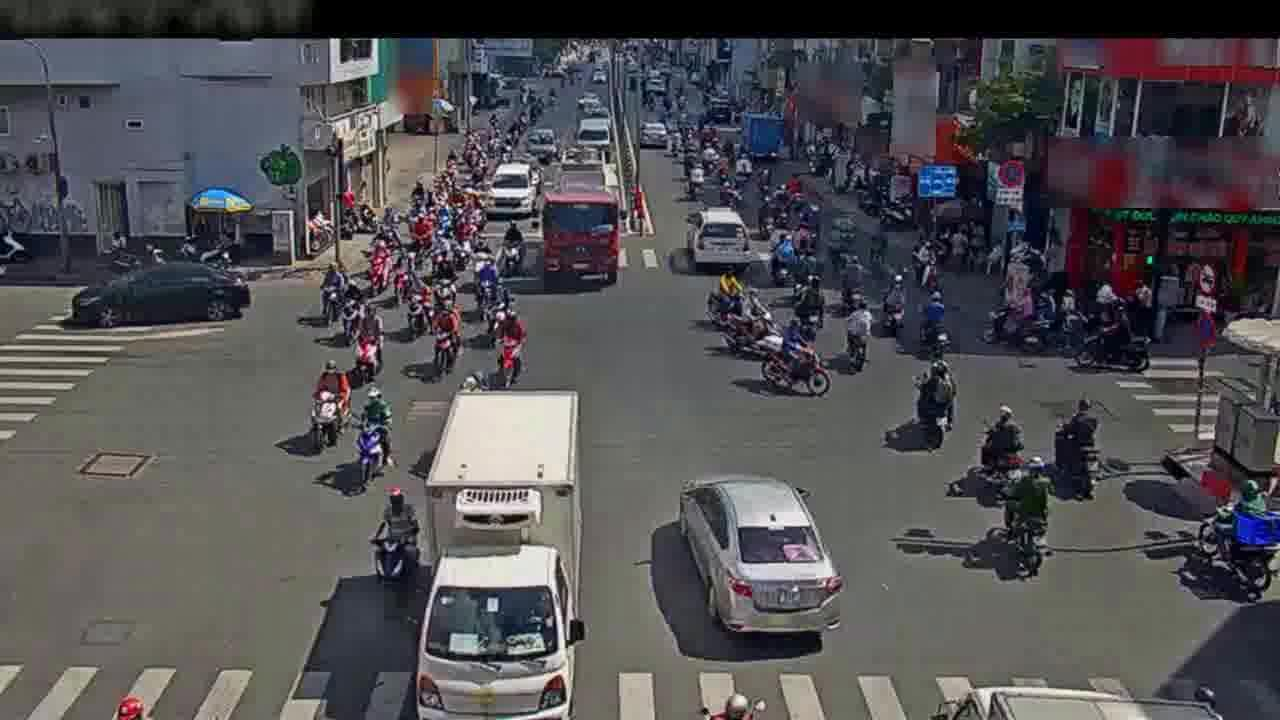8: (407, 394, 601, 715), (541, 158, 624, 291)
container: (683, 471, 830, 641), (68, 266, 249, 325), (687, 202, 747, 278), (486, 160, 539, 222), (634, 114, 671, 157)
motorbike: (1200, 484, 1268, 605), (755, 323, 830, 401), (1064, 307, 1146, 377), (1000, 456, 1047, 576), (371, 486, 417, 604), (1057, 395, 1104, 497), (978, 401, 1026, 492), (914, 354, 956, 451), (354, 385, 392, 489), (985, 290, 1042, 356), (307, 359, 346, 454), (472, 263, 514, 344), (486, 311, 526, 395), (351, 234, 398, 298), (723, 295, 773, 354), (429, 300, 462, 384), (333, 278, 373, 347), (916, 285, 950, 365), (354, 302, 386, 387), (315, 261, 354, 329), (400, 266, 434, 344), (790, 268, 823, 342), (842, 298, 870, 377), (499, 209, 528, 284), (766, 233, 800, 294), (878, 269, 906, 343), (704, 267, 739, 326), (908, 236, 940, 296), (837, 254, 864, 314)
